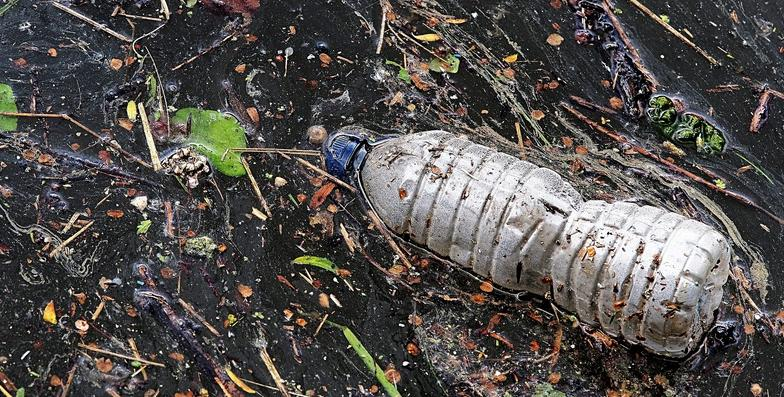Plastic: (315, 124, 733, 374)
